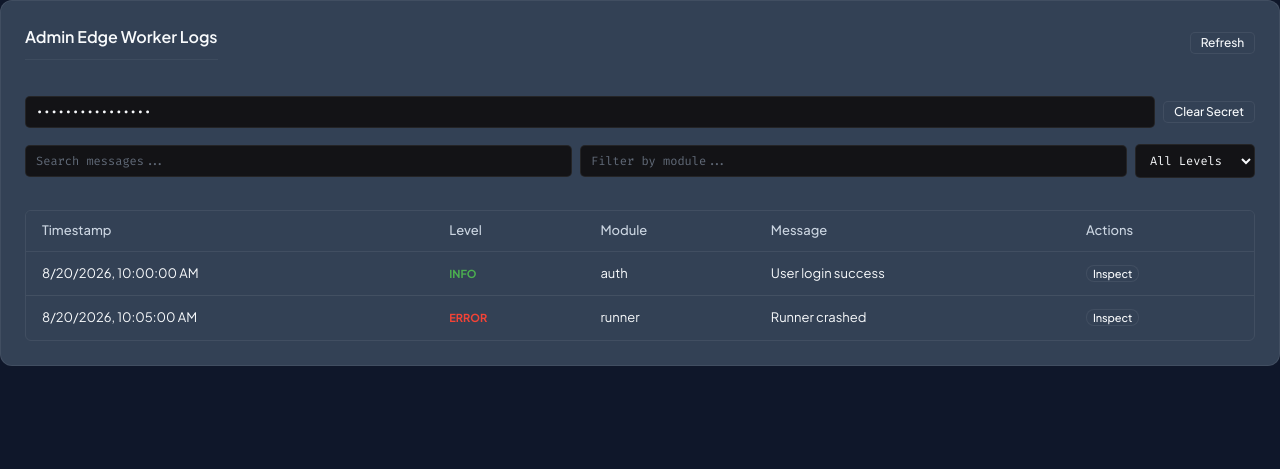
Scenario: AdminLogsTab Component › allows inspecting payload details
Click the button "Inspect" in the row of "8/20/2026, 10:00:00 AM": x=1113, y=273 [1086,264,1139,282]
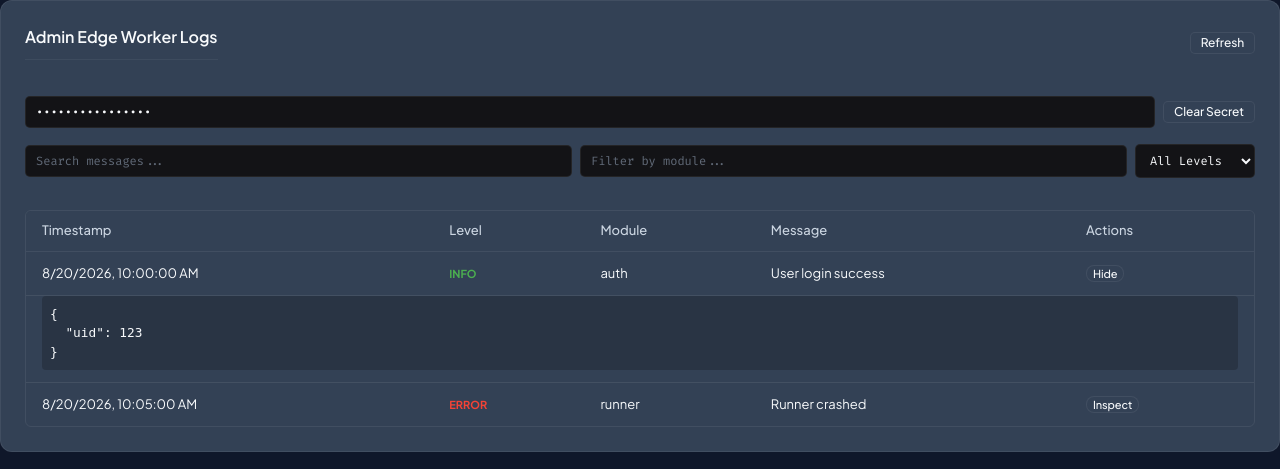
Check: the text "{ \"uid\": 123 }" is shown, box [42,296,1238,370]
Check: the button "Hide" is shown, box [1086,264,1124,282]
